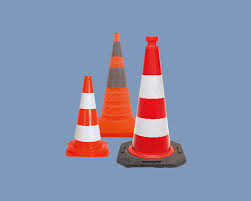cones: (121, 35, 187, 168), (67, 75, 108, 156)
